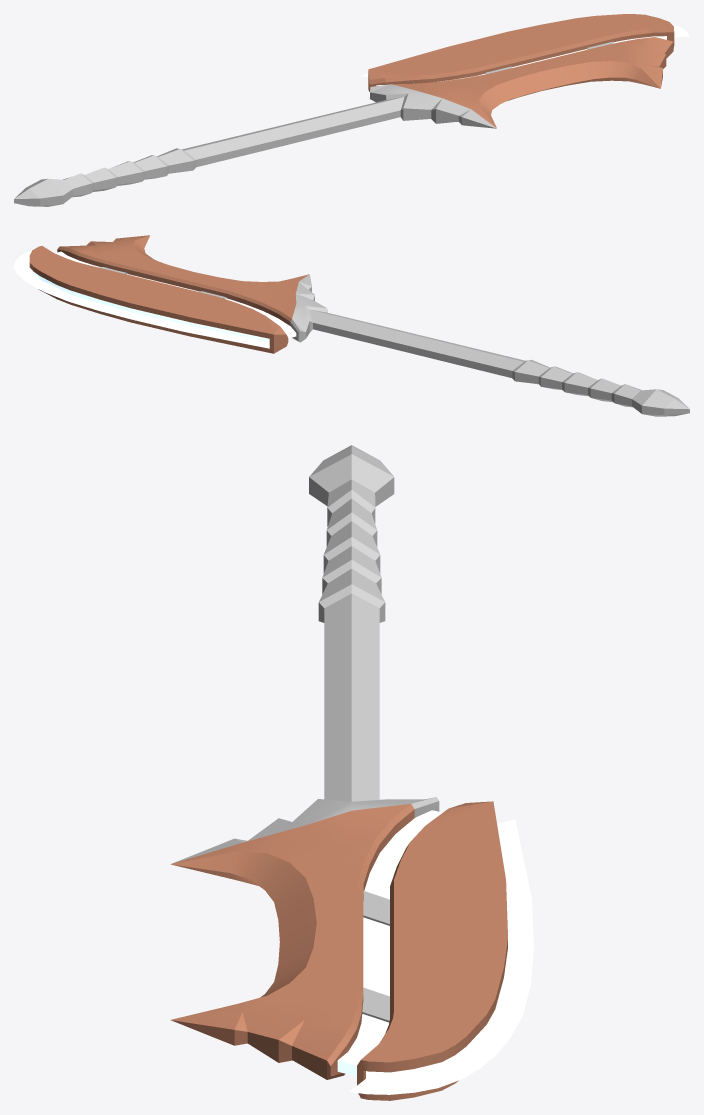
Rendered from weap1_axe.fbx.
3 renders of one model, top to bottom at view 1: azimuth 30°, elevation 25°; view 2: azimuth 150°, elevation 25°; view 3: azimuth 270°, elevation 25°, orthographic. The views are drawn at different scales.
Visible parts, largest first — view 1: weap1_axe; view 2: weap1_axe; view 3: weap1_axe.
Part boxes in pixels (x1,y1,x2,y2): weap1_axe: (14, 14, 689, 206); weap1_axe: (14, 235, 689, 416); weap1_axe: (170, 445, 533, 1100).
Size of the model in its own units: 91.78 by 3.65 by 21.86.
